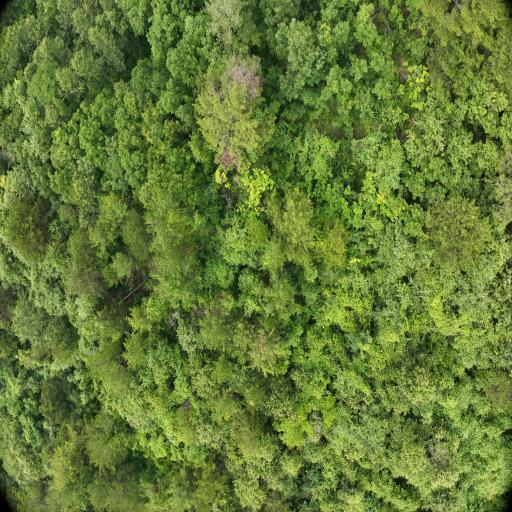dead-tree: (234, 62, 261, 88)
